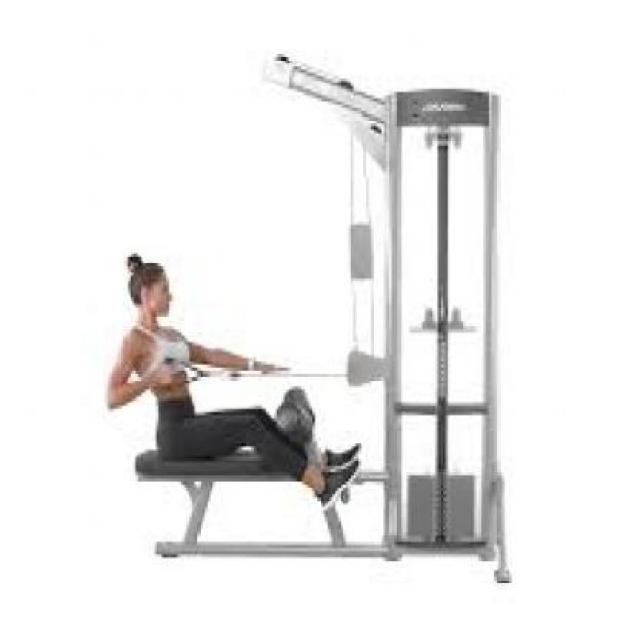Seated Cable Rows: (103, 38, 522, 584)
